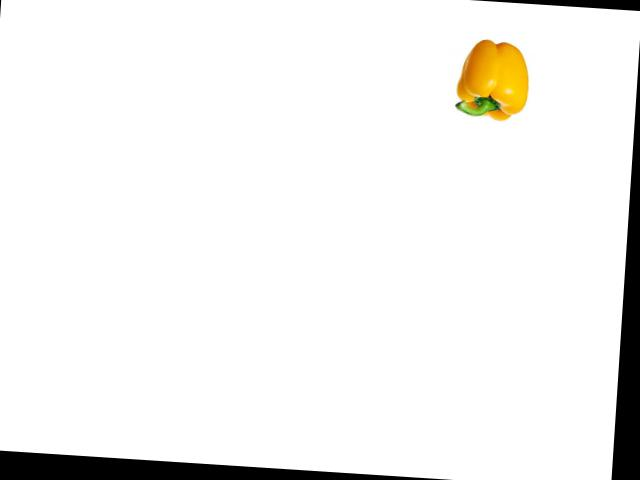bell_pepper: (446, 34, 537, 129)
